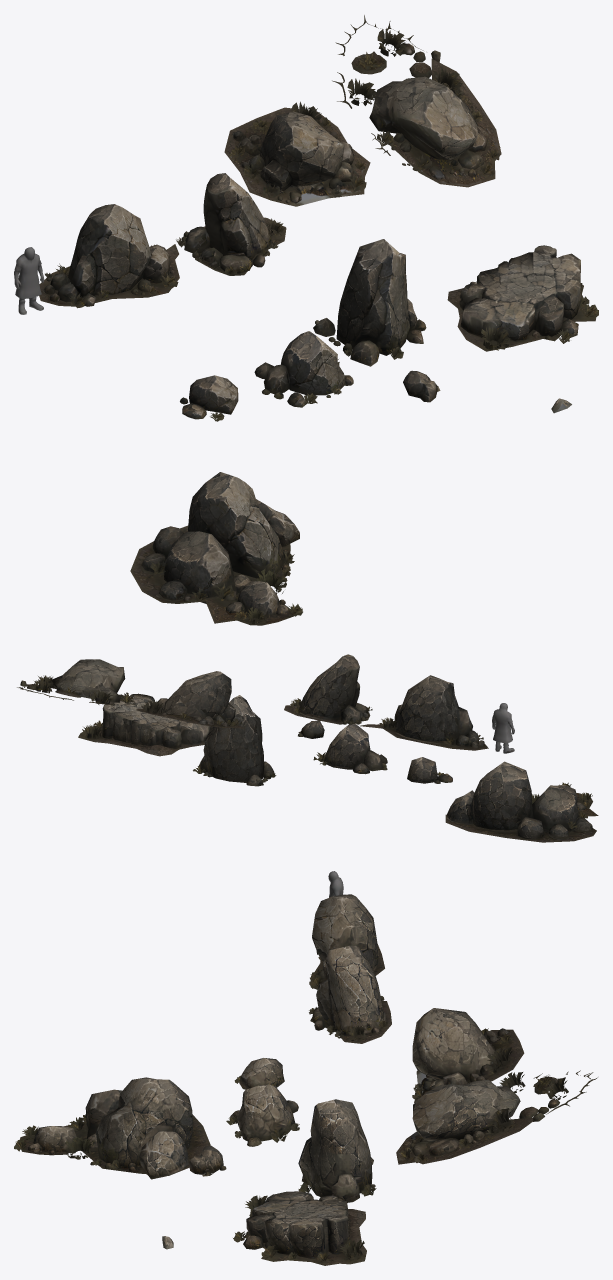
The model's file is asset_08_rock_sheet.glb.
The picture shows the model from 3 angles, top to bottom: view 1: azimuth 30°, elevation 25°; view 2: azimuth 150°, elevation 25°; view 3: azimuth 270°, elevation 25°; orthographic projection. The views are drawn at different scales.
Visible parts, largest first — view 1: tripo_01652ebe_1fd5_4cd8_b025_81b8f83ed0f9; view 2: tripo_01652ebe_1fd5_4cd8_b025_81b8f83ed0f9; view 3: tripo_01652ebe_1fd5_4cd8_b025_81b8f83ed0f9.
Part boxes in pixels (bbox=[...]): tripo_01652ebe_1fd5_4cd8_b025_81b8f83ed0f9: bbox=[14, 15, 598, 625]; tripo_01652ebe_1fd5_4cd8_b025_81b8f83ed0f9: bbox=[17, 654, 598, 842]; tripo_01652ebe_1fd5_4cd8_b025_81b8f83ed0f9: bbox=[14, 871, 597, 1265].
Bounding box in the file's own units: 0.9995 × 0.4878 × 0.9956.
Materials: 1 (1 with a texture image).
